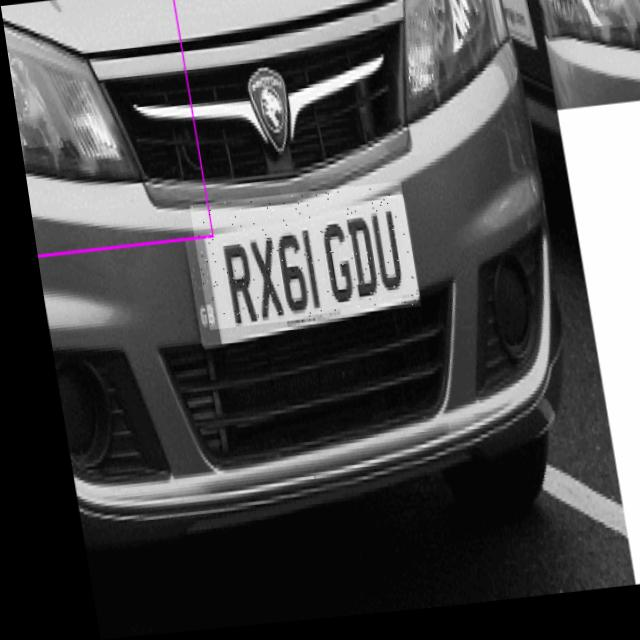license_plate: (182, 188, 411, 333)
